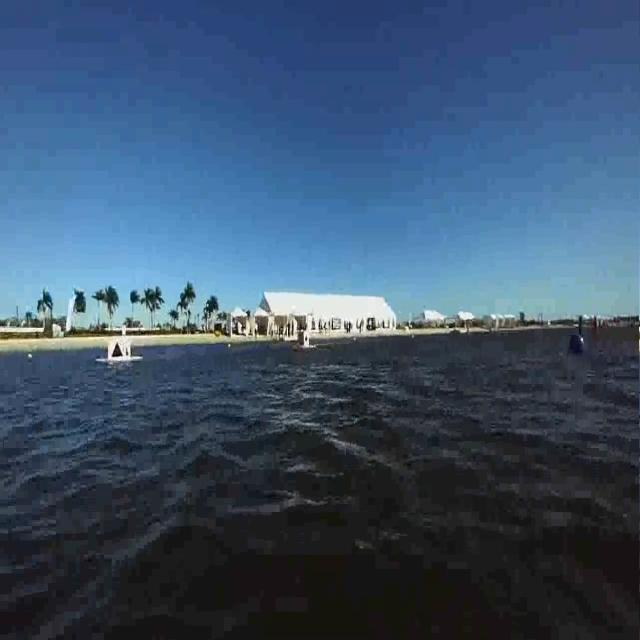blue-buoy: (566, 331, 586, 358)
